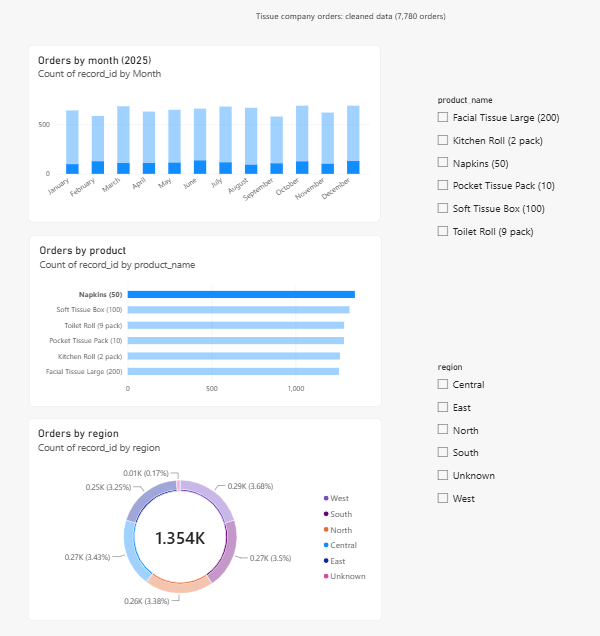

Layout of this report page (visuals, bound fields, positions):
{"tool":"powerbi","page":{"name":"Page 1","canvas":[1920,1080],"ordinal":0},"visuals":[{"type":"clusteredColumnChart","title":"Orders by month (2025)","fields":{"Category":["orders_clean.order_date.Variation.Date Hierarchy.Month"],"Y":["CountNonNull(orders_clean.record_id)"]},"box":[75,80,587.5,295],"z":0},{"type":"clusteredBarChart","title":"Orders by product","fields":{"Category":["orders_clean.product_name"],"Y":["CountNonNull(orders_clean.record_id)"]},"box":[77.5,397.5,587.5,285],"z":1},{"type":"donutChart","title":"Orders by region","fields":{"Category":["orders_clean.region"],"Y":["CountNonNull(orders_clean.record_id)"]},"box":[75,702.5,590,337.5],"z":2},{"type":"slicer","fields":{"Values":["orders_clean.region"]},"box":[750,607.5,277.5,265],"z":3},{"type":"slicer","fields":{"Values":["orders_clean.product_name"]},"box":[750,162.5,277.5,262.5],"z":4},{"type":"textbox","box":[455,20,365,30],"z":5}]}

Visuals, with their boxes on the page's 1920x1080 design canvas (x1, y1, x2, y2). These are canvas units, not pixel positions in the 600x636 screenshot, which may show the page scaled, cropped or inside an application window:
"Orders by month (2025)" clusteredColumnChart: rect(75, 80, 662, 375)
"Orders by product" clusteredBarChart: rect(78, 398, 665, 682)
"Orders by region" donutChart: rect(75, 702, 665, 1040)
slicer - orders_clean.region: rect(750, 608, 1028, 872)
slicer - orders_clean.product_name: rect(750, 162, 1028, 425)
textbox: rect(455, 20, 820, 50)
